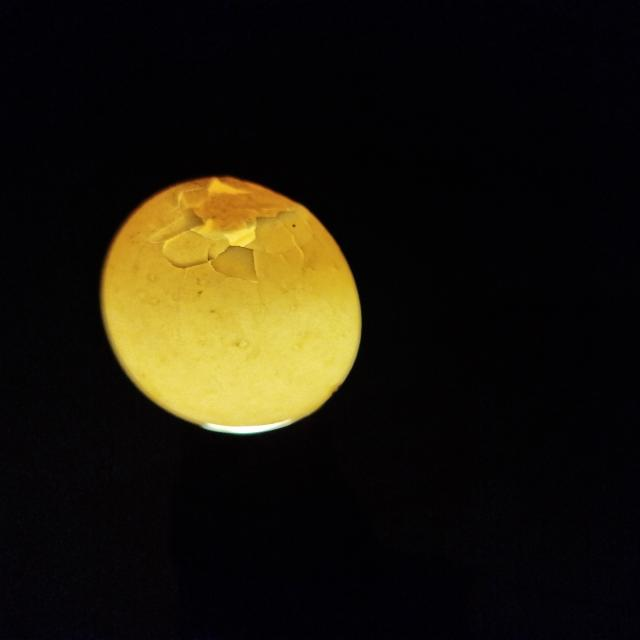Rachadura: (148, 179, 316, 288)
